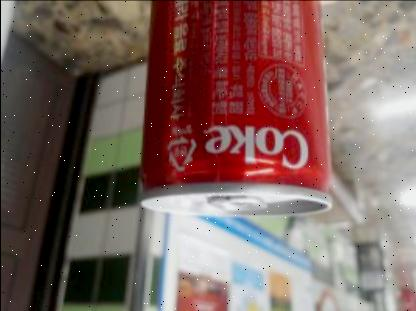Can: (146, 0, 328, 215)
